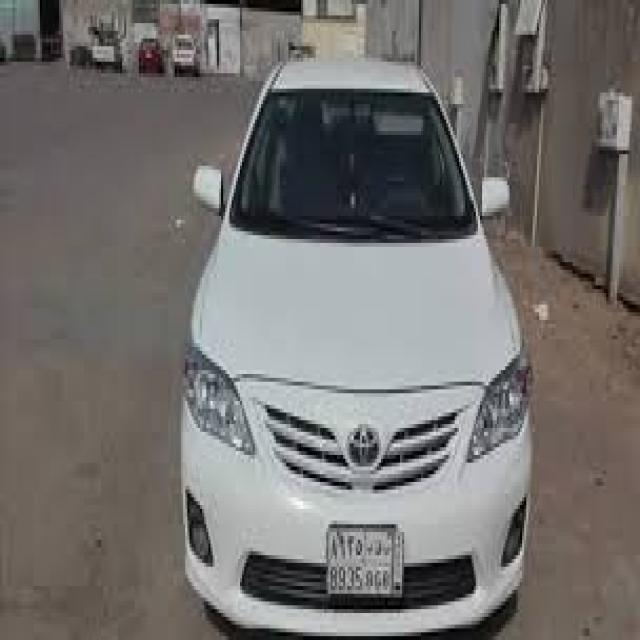license_plate: (324, 524, 404, 598)
